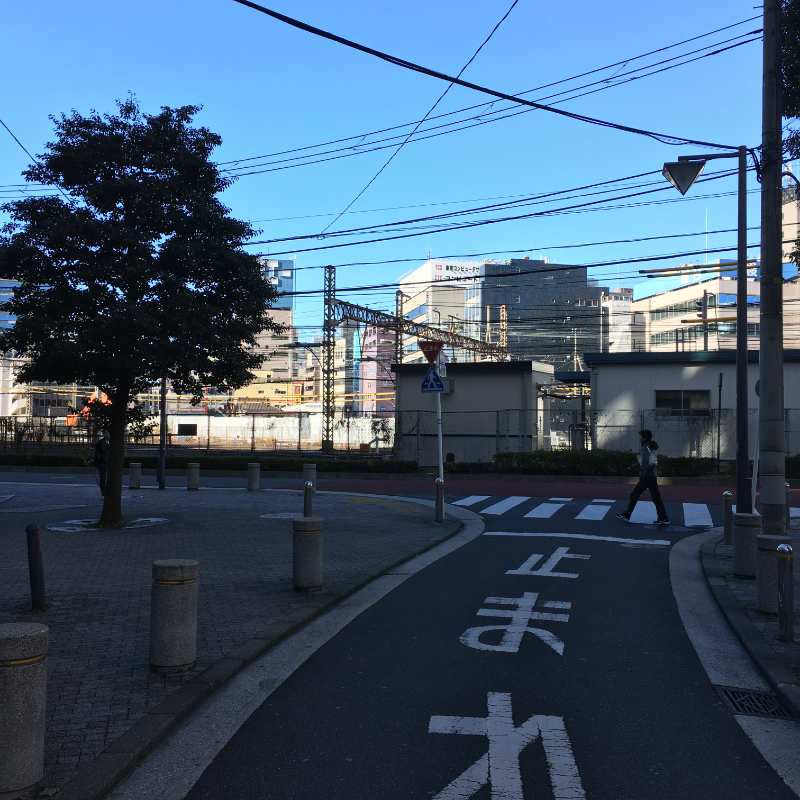STOP: (413, 339, 447, 365)
